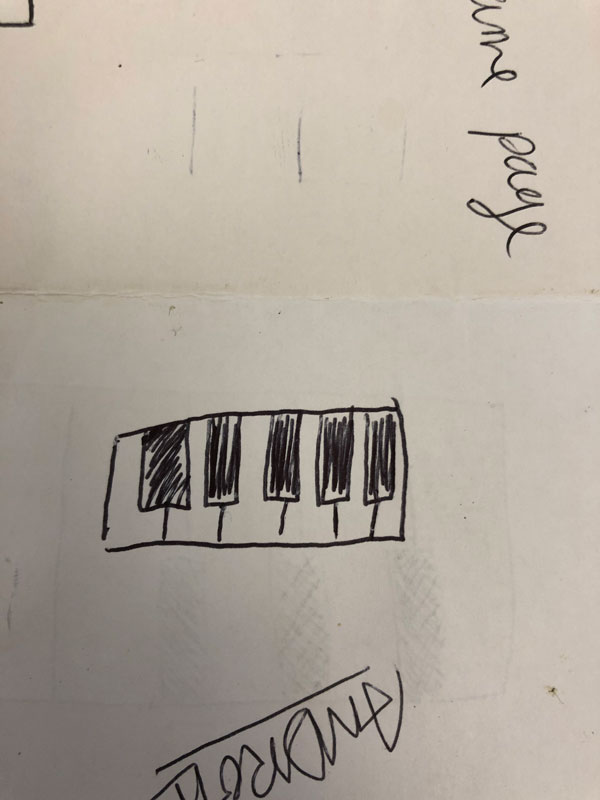piano: (96, 392, 409, 553)
